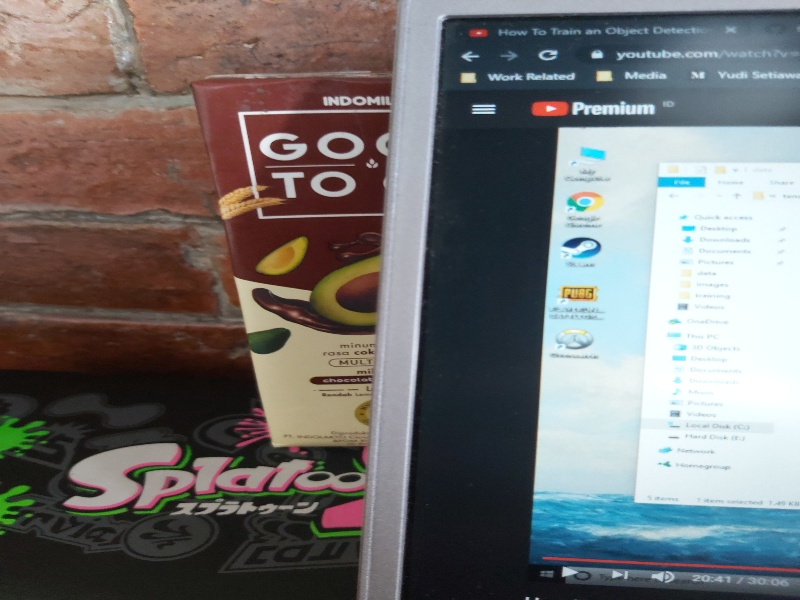cokelat: (189, 69, 395, 445)
